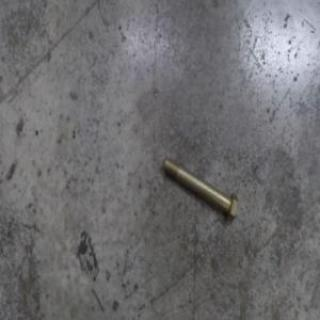Bolttrack_idkeyframe: (161, 152, 238, 222)
